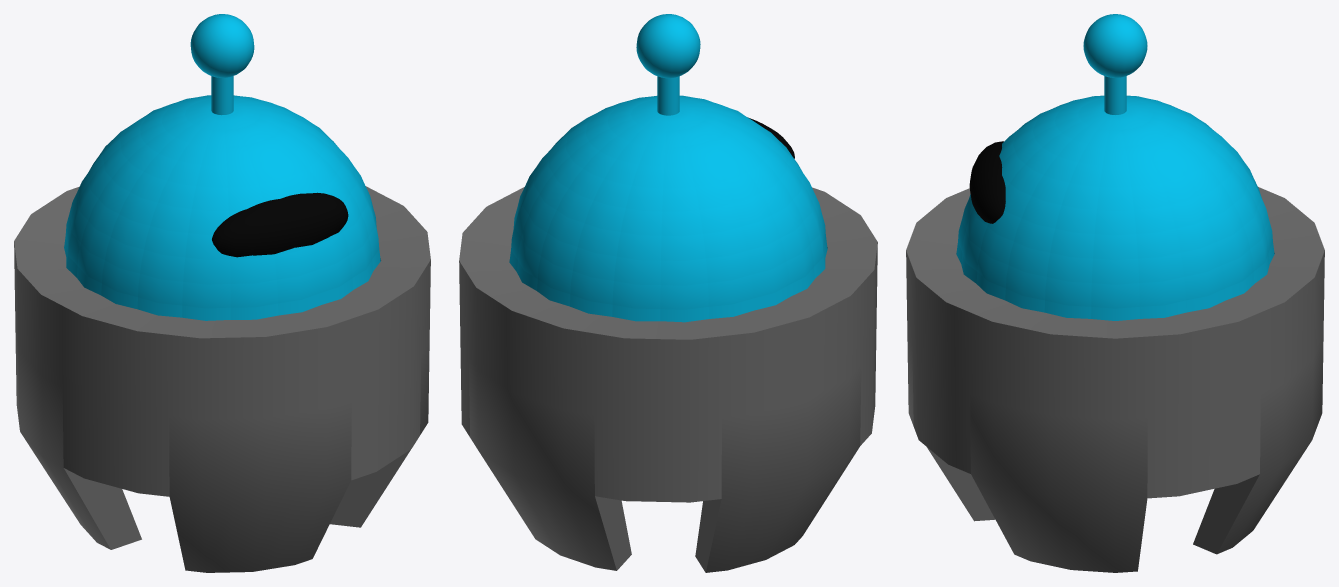
Rendered from Alien2.fbx.
The picture shows the model from 3 angles, left to right: view 1: azimuth 30°, elevation 25°; view 2: azimuth 150°, elevation 25°; view 3: azimuth 270°, elevation 25°; orthographic projection.
Visible parts, largest first — view 1: polySurface4; view 2: polySurface4; view 3: polySurface4.
Boxes of the visible parts, x1=… form: polySurface4: x1=14, y1=14, x2=430, y2=572; polySurface4: x1=459, y1=14, x2=877, y2=572; polySurface4: x1=906, y1=14, x2=1324, y2=572.
Size of the model in its own units: 2 by 2.61 by 2.
